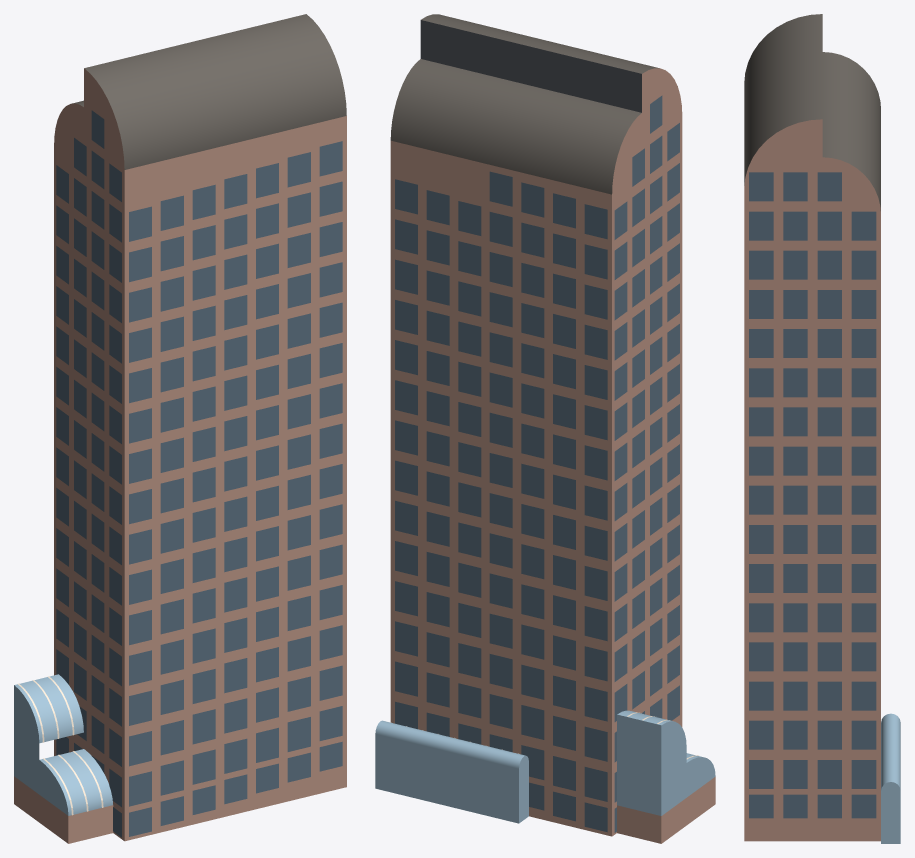
Rendered from den-wells-fargo-center.glb.
3 views of the same model, side by side, from view 1: azimuth 30°, elevation 25°; view 2: azimuth 150°, elevation 25°; view 3: azimuth 270°, elevation 25° (orthographic). The views are drawn at different scales.
Visible parts, largest first — view 1: Wells Fargo Center; view 2: Wells Fargo Center; view 3: Wells Fargo Center.
Part boxes in pixels (<box>): Wells Fargo Center: <box>14,14,346,843</box>; Wells Fargo Center: <box>375,14,715,843</box>; Wells Fargo Center: <box>744,14,900,843</box>.
Size of the model in its own units: 81.6 by 213 by 41.95.
